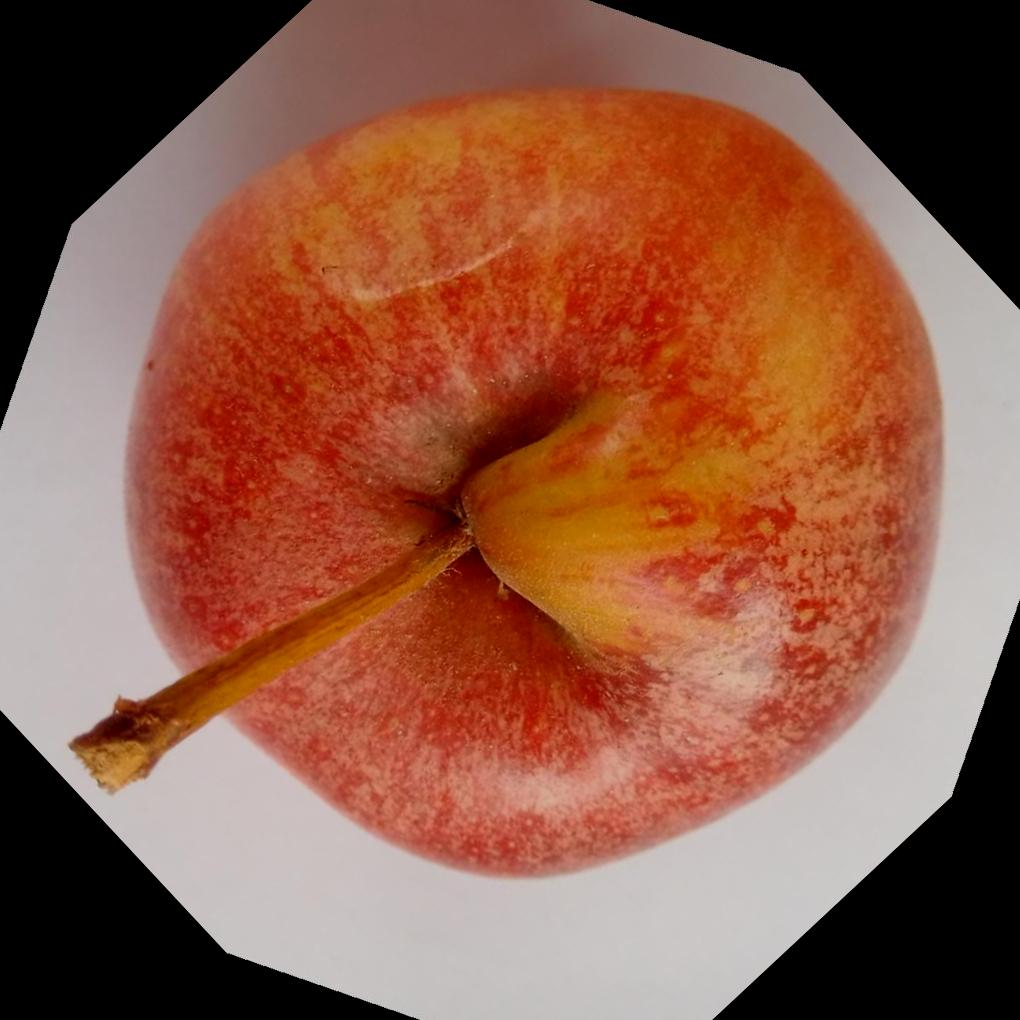FreshGuava: (74, 78, 945, 880)
